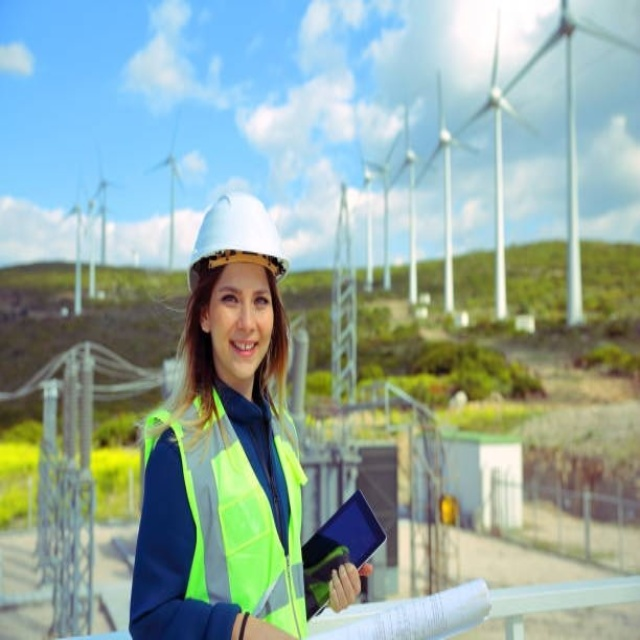Sin_gafas: (215, 279, 270, 315)
Sin_guantes: (325, 561, 372, 613)
Sin_mascara: (226, 333, 261, 375)
